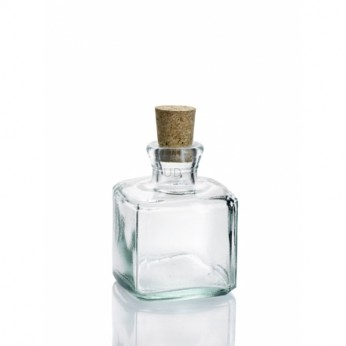glass_bottle: (109, 103, 242, 303)
